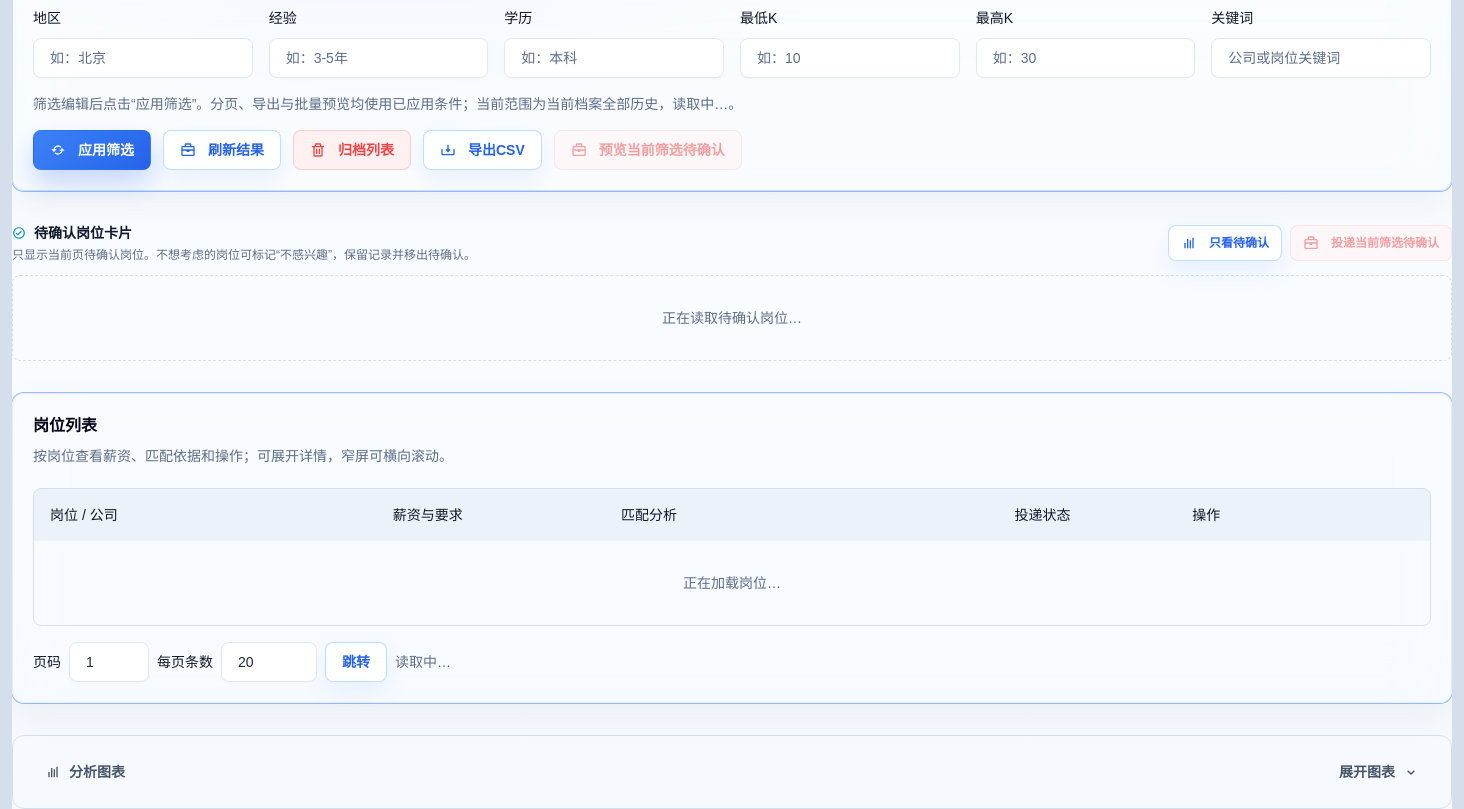
Test: 图表默认折叠并位于岗位列表之后，可以展开再收起
This screenshot has width=1464, height=809.
(page scrolled)
expect the text "投递状态分布" is not shown: met
Step 1. Click the button "分析图表 展开图表" → {"x": 97, "y": 772}, box left=29, top=752, right=1435, bottom=792
(page scrolled)
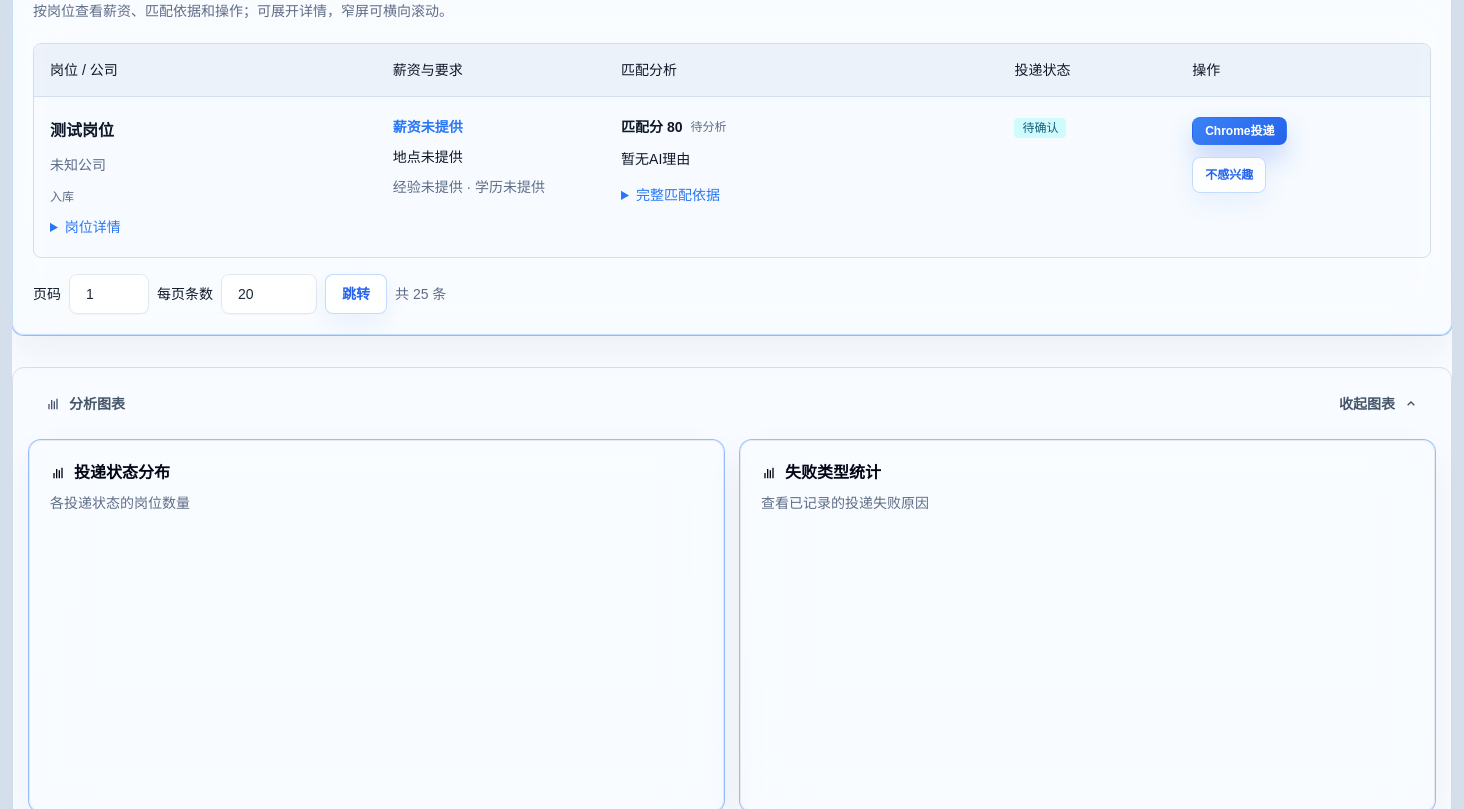
expect the text "投递状态分布" is shown: met, box left=50, top=464, right=170, bottom=481
Step 2. Click the button "分析图表 收起图表" → {"x": 97, "y": 404}, box left=29, top=384, right=1435, bottom=424
(page scrolled)
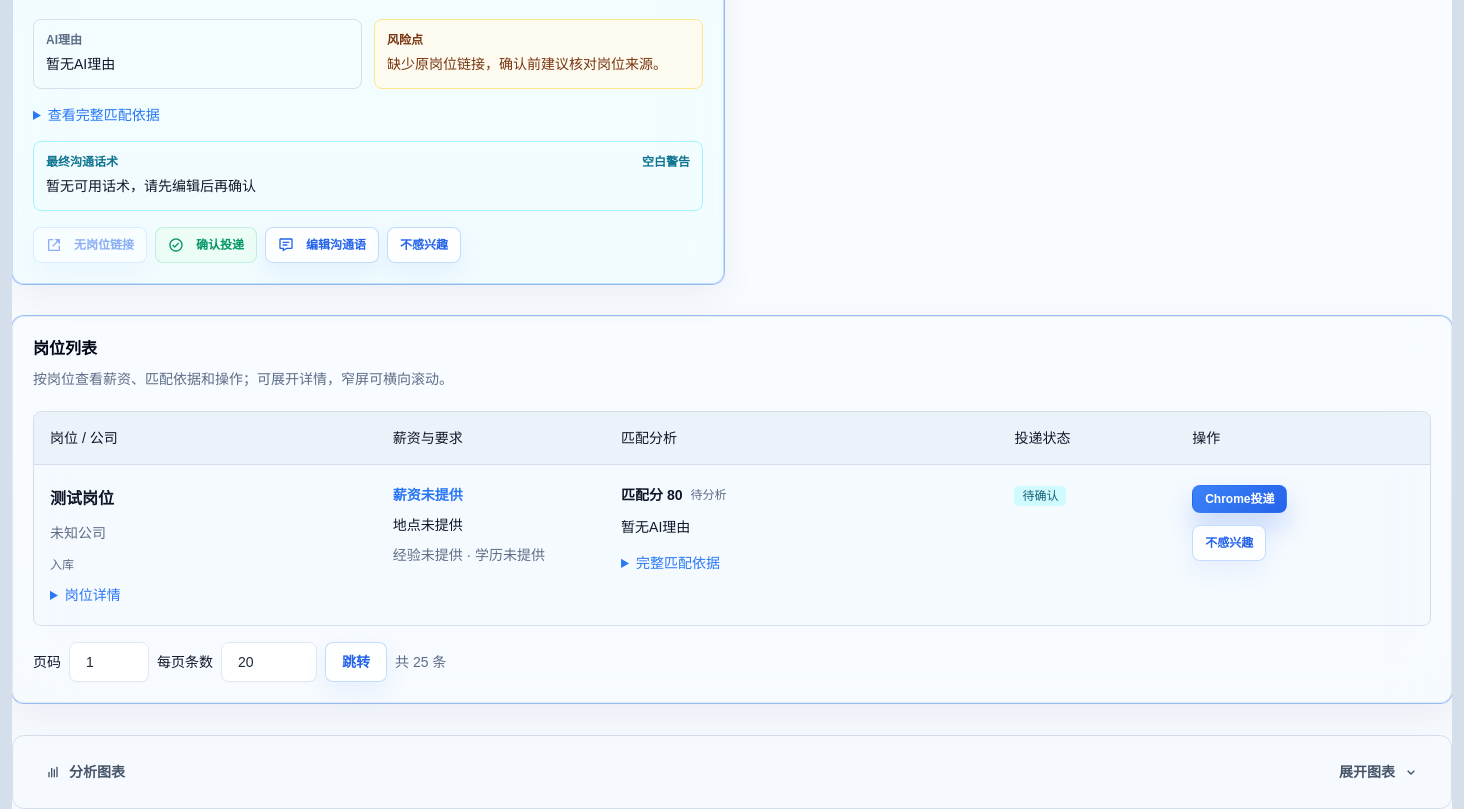
expect the text "投递状态分布" is gone: met
